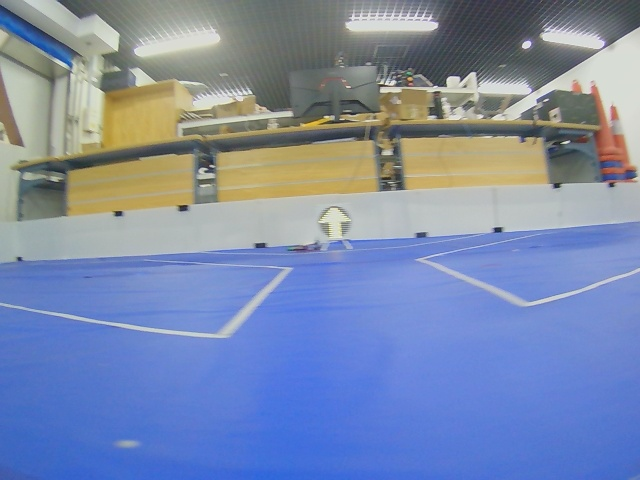straight_yellow: (318, 206, 351, 240)
